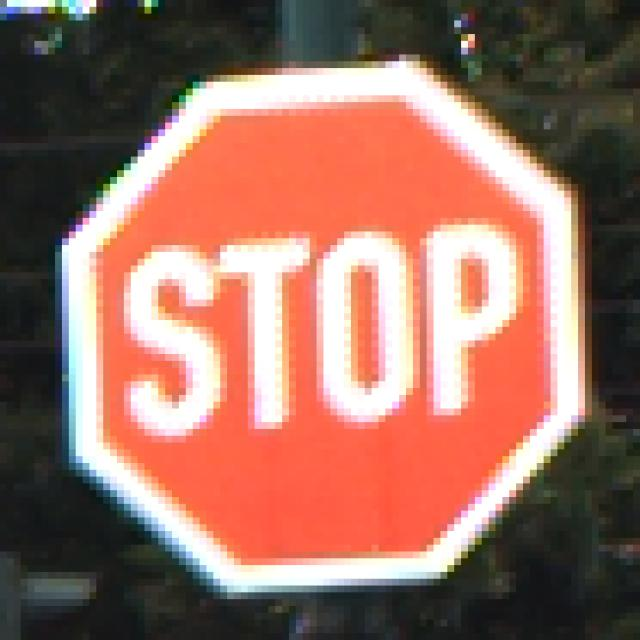STOP: (56, 55, 586, 580)
